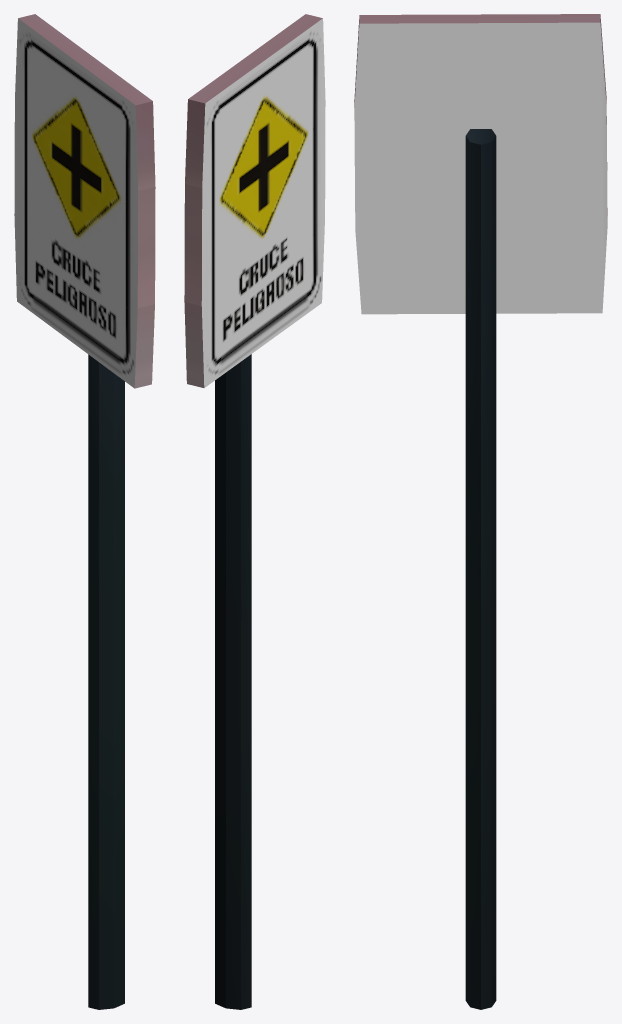
The model's file is Cartel_Cruce.fbx.
The picture shows the model from 3 angles, left to right: view 1: azimuth 30°, elevation 25°; view 2: azimuth 150°, elevation 25°; view 3: azimuth 270°, elevation 25°; orthographic projection. The views are drawn at different scales.
Parts seen in each view (by area): view 1: Cartel_Cruce; view 2: Cartel_Cruce; view 3: Cartel_Cruce.
Boxes of the visible parts, box(x1,y1,x2,y2) form: Cartel_Cruce: box(14, 14, 155, 1009); Cartel_Cruce: box(184, 14, 325, 1009); Cartel_Cruce: box(354, 14, 607, 1009).
Bounding box in the file's own units: 0.1326 × 0.5834 × 2.47.
Materials: 1 (1 with a texture image).
